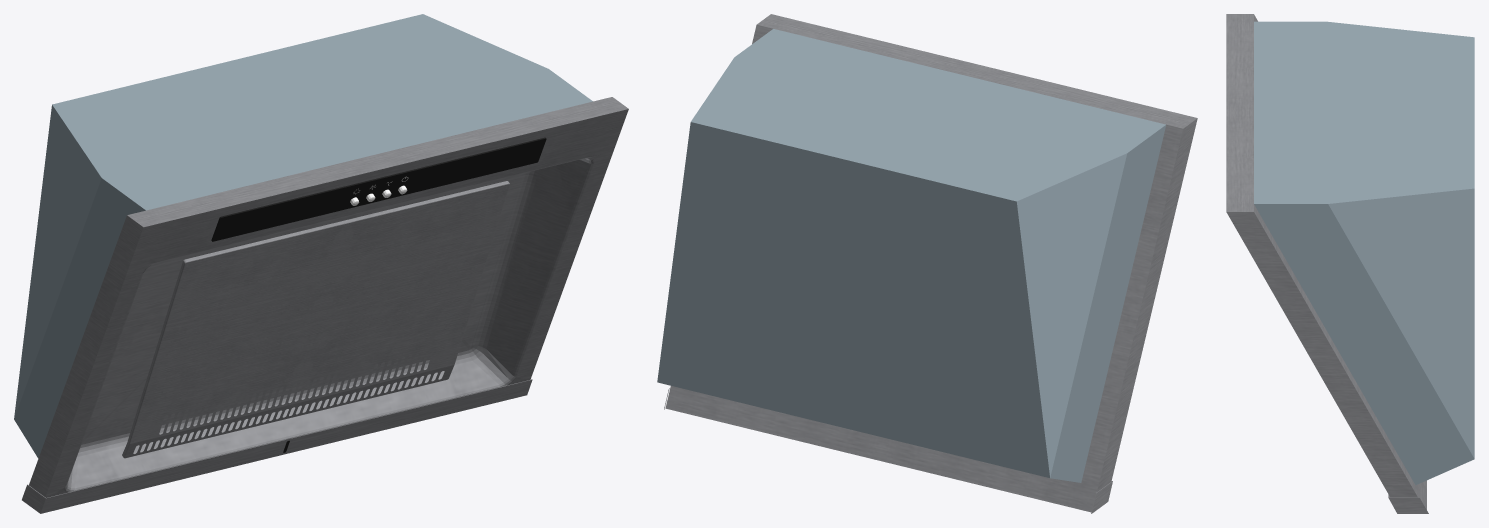
File: sweethome3d-blendswap-cc-0-range-hood-160.glb
3 renders of one model, left to right at view 1: azimuth 30°, elevation 25°; view 2: azimuth 150°, elevation 25°; view 3: azimuth 270°, elevation 25°, orthographic. The views are drawn at different scales.
Visible parts, largest first — view 1: 002_Plane.000, 001_Plane.002, 003_Plane.003, 005_Plane.004, 004_Plane.001; view 2: 002_Plane.000, 001_Plane.002; view 3: 002_Plane.000, 001_Plane.002, 005_Plane.004.
Boxes of the visible parts, x1,y1,x2,y2 form: 002_Plane.000: (14,14,592,458); 001_Plane.002: (29,97,628,497); 003_Plane.003: (122,181,509,458); 005_Plane.004: (22,379,532,513); 004_Plane.001: (211,137,546,241); 002_Plane.000: (657,29,1165,482); 001_Plane.002: (665,14,1197,512); 002_Plane.000: (1254,21,1474,485); 001_Plane.002: (1226,14,1426,509); 005_Plane.004: (1388,494,1428,513).
Size of the model in its own units: 60 by 42.58 by 31.77.
Materials: 7 (1 with a texture image).
